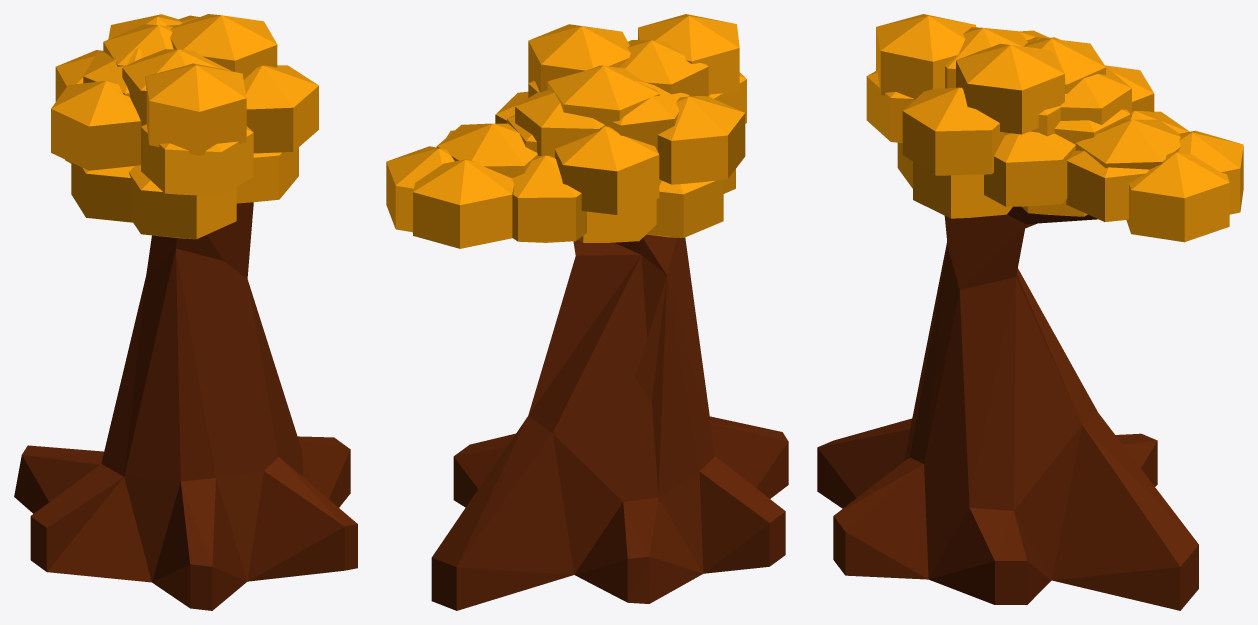
Rendered from tree_oak.glb.
3 renders of one model, left to right at view 1: azimuth 30°, elevation 25°; view 2: azimuth 150°, elevation 25°; view 3: azimuth 270°, elevation 25°, orthographic.
Parts seen in each view (by area): view 1: Trunk, LeafGrist.021, LeafGrist.013, LeafGrist.019, LeafGrist.012, LeafGrist.005, LeafGrist.020, LeafGrist.006, LeafGrist.004, LeafGrist.023, LeafGrist.022, LeafGrist.015 (+2 smaller); view 2: Trunk, LeafGrist.001, LeafGrist.017, LeafGrist.013, LeafGrist.008, LeafGrist.021, LeafGrist.020, LeafGrist.022, LeafGrist.006, LeafGrist.011, LeafGrist.023, LeafGrist.014 (+4 smaller); view 3: Trunk, LeafGrist.020, LeafGrist.003, LeafGrist.019, LeafGrist.021, LeafGrist.018, LeafGrist.011, LeafGrist.002, LeafGrist.004, LeafGrist.014, LeafGrist.001, LeafGrist.022 (+6 smaller).
Part boxes in pixels (bbox=[...]): Trunk: bbox=[14, 202, 357, 610]; LeafGrist.021: bbox=[145, 63, 246, 155]; LeafGrist.013: bbox=[51, 80, 141, 170]; LeafGrist.019: bbox=[243, 65, 318, 153]; LeafGrist.012: bbox=[141, 124, 253, 196]; LeafGrist.005: bbox=[129, 165, 236, 239]; LeafGrist.020: bbox=[170, 14, 277, 79]; LeafGrist.006: bbox=[71, 162, 134, 222]; LeafGrist.004: bbox=[236, 147, 298, 203]; LeafGrist.023: bbox=[122, 49, 230, 126]; LeafGrist.022: bbox=[103, 24, 173, 66]; LeafGrist.015: bbox=[83, 48, 141, 96]; Trunk: bbox=[431, 234, 788, 610]; LeafGrist.001: bbox=[413, 159, 514, 248]; LeafGrist.017: bbox=[555, 126, 659, 214]; LeafGrist.013: bbox=[657, 96, 745, 184]; LeafGrist.008: bbox=[512, 155, 586, 242]; LeafGrist.021: bbox=[638, 14, 739, 96]; LeafGrist.020: bbox=[528, 24, 630, 92]; LeafGrist.022: bbox=[547, 65, 659, 127]; LeafGrist.006: bbox=[646, 179, 723, 237]; LeafGrist.011: bbox=[436, 123, 537, 178]; LeafGrist.023: bbox=[619, 40, 708, 96]; LeafGrist.014: bbox=[515, 90, 605, 157]; Trunk: bbox=[817, 206, 1198, 610]; LeafGrist.020: bbox=[956, 43, 1064, 134]; LeafGrist.003: bbox=[1126, 152, 1229, 242]; LeafGrist.019: bbox=[902, 87, 1004, 175]; LeafGrist.021: bbox=[876, 14, 976, 99]; LeafGrist.018: bbox=[984, 131, 1075, 206]; LeafGrist.011: bbox=[1075, 119, 1180, 169]; LeafGrist.002: bbox=[1066, 150, 1149, 221]; LeafGrist.004: bbox=[913, 161, 1012, 218]; LeafGrist.014: bbox=[1060, 66, 1131, 124]; LeafGrist.001: bbox=[1178, 130, 1243, 214]; LeafGrist.022: bbox=[1023, 37, 1105, 93].
Size of the model in its own units: 2.21 by 3.63 by 2.63.
